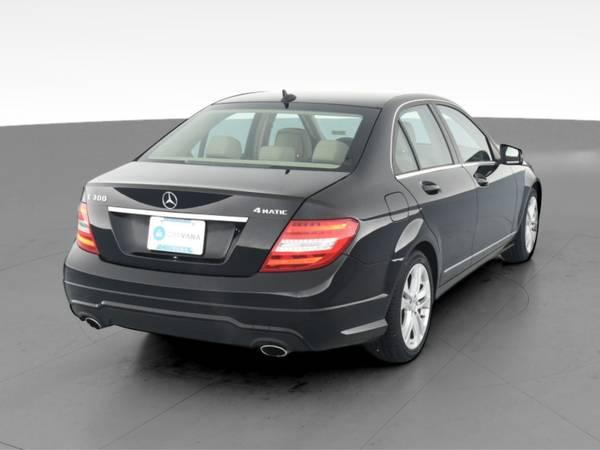Front_Fender: (506, 162, 539, 240)
Front_Right_Door: (462, 166, 517, 274)
Front_Right_Window: (427, 105, 509, 169)
Left_Taillight: (70, 203, 99, 253)
Rear_Bumper: (59, 245, 405, 351)
Rear_Fender: (292, 166, 428, 263)
Rear_Right_Door: (397, 167, 478, 297)
Rear_Right_Window: (390, 104, 457, 176)
Rear_Windshield: (137, 99, 384, 172)
Right_Taillight: (257, 217, 360, 273)
Roof: (216, 87, 458, 174)
Tailgate: (81, 161, 349, 276)
Wheel: (387, 252, 440, 360), (516, 187, 541, 257)
